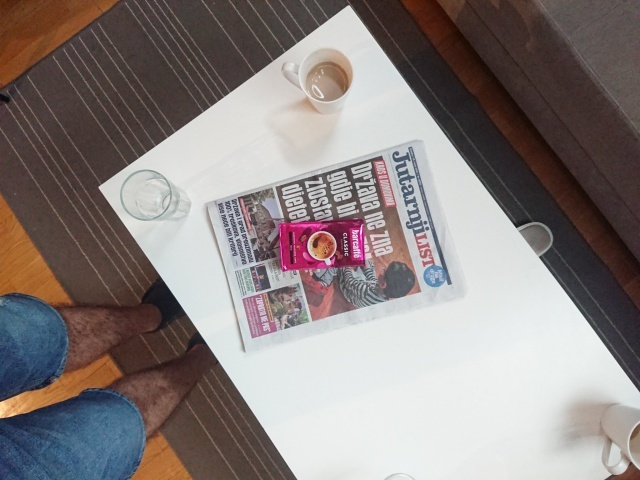Barcaffe Classic Original 225g: (276, 217, 368, 274)
